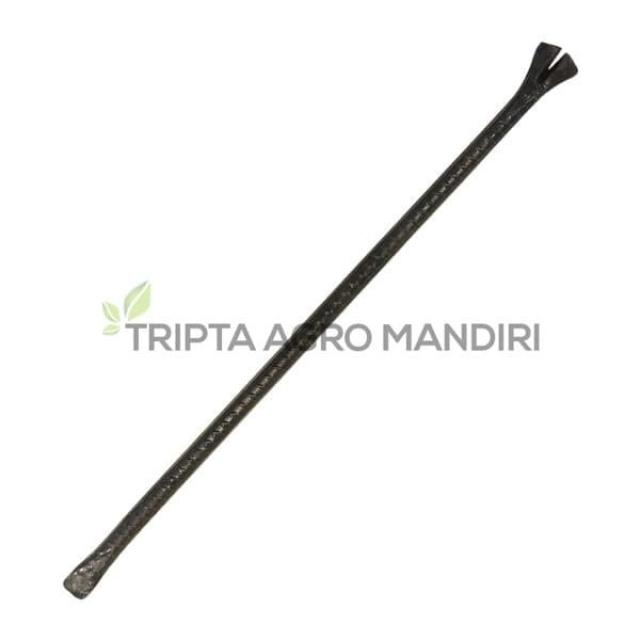Linggis: (68, 41, 580, 598)
